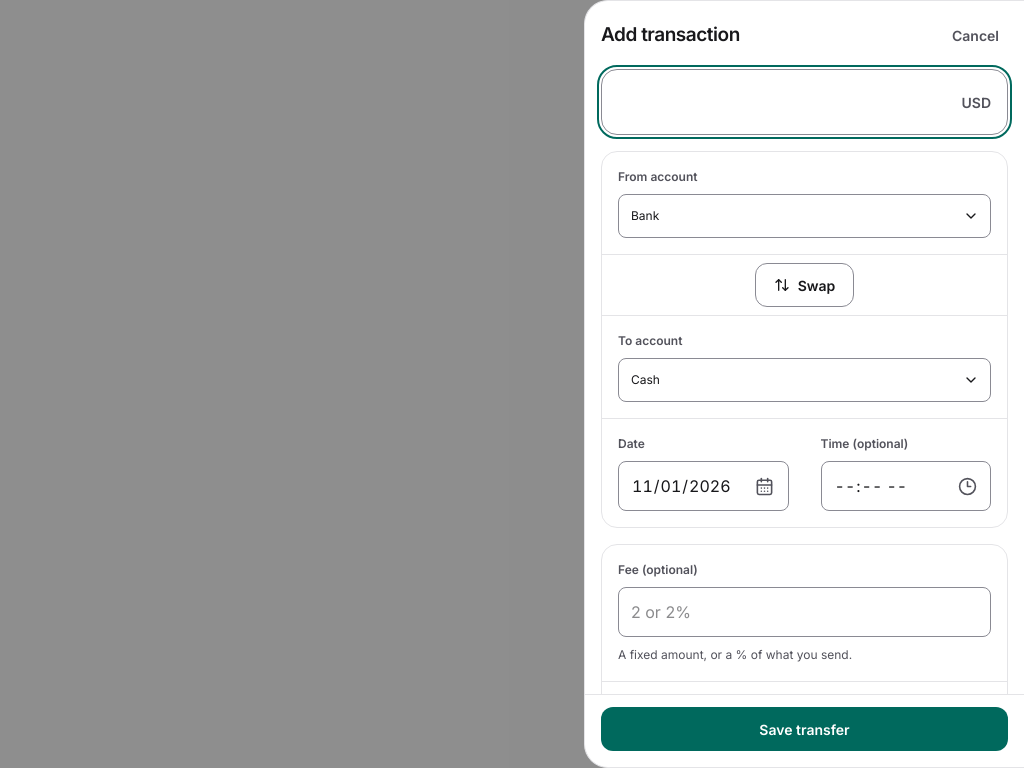
Test: opens More and asks for a category when a fee has none
Type "100" into the field named "Amount (USD)" at (784, 102), box [618, 70, 950, 134]
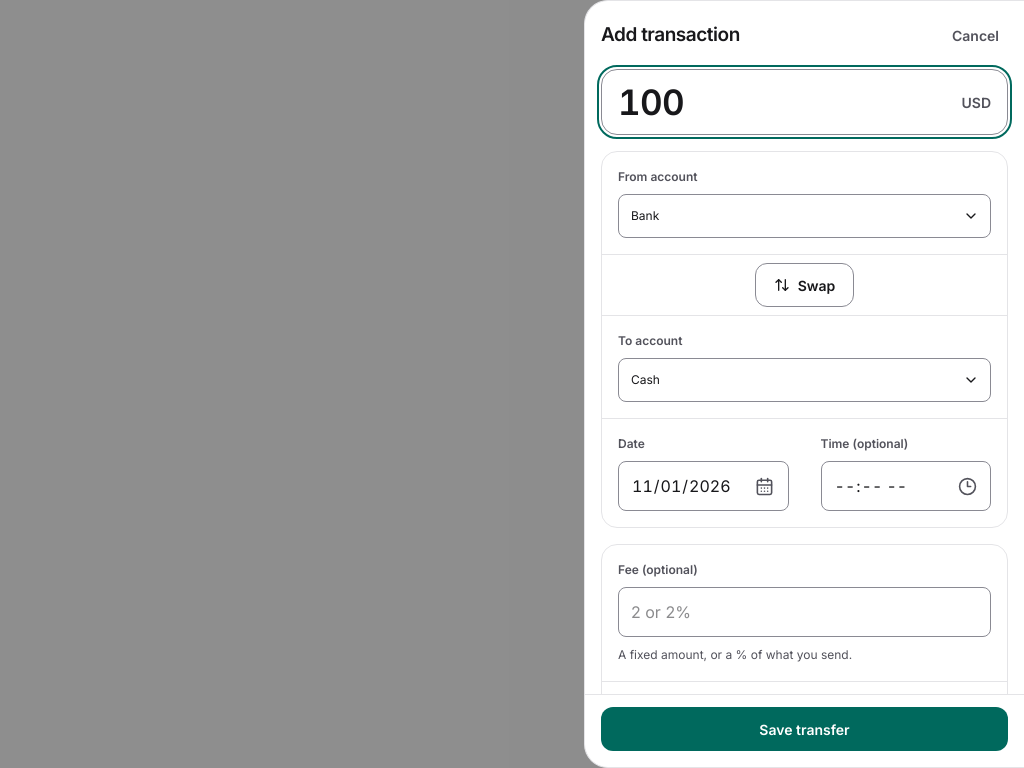
Type "2" into the field labelled "Fee (optional)" at (804, 612), box [618, 587, 991, 637]
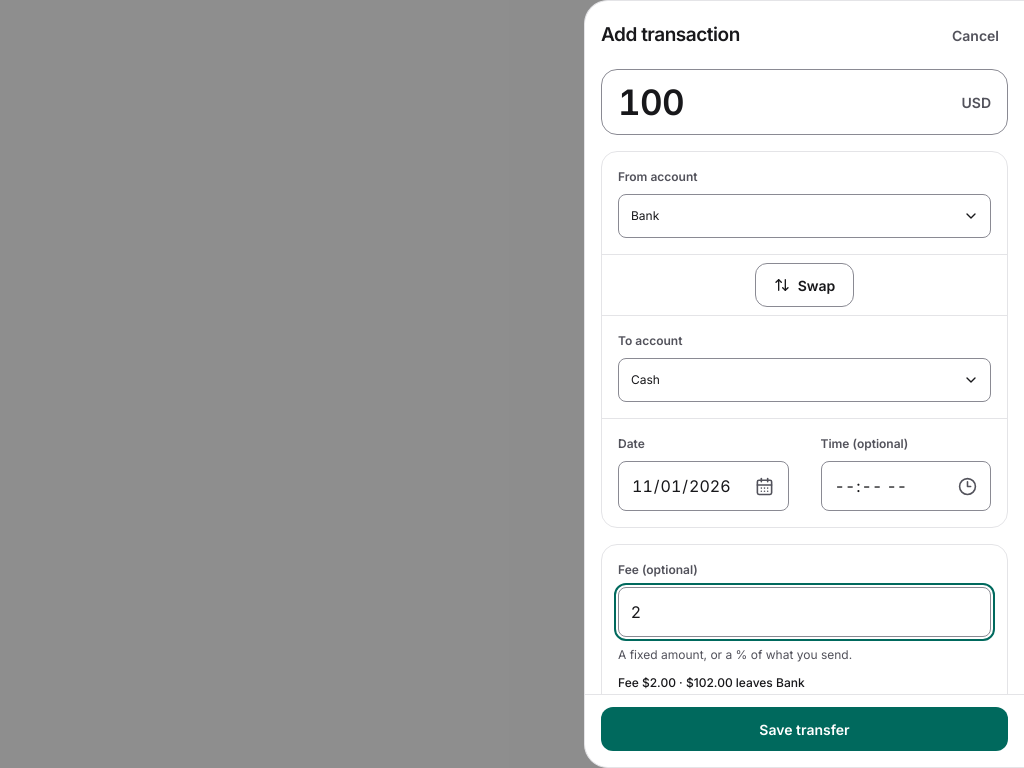
Click the button "Save transfer" at (804, 729), box [601, 707, 1008, 751]
(page scrolled)
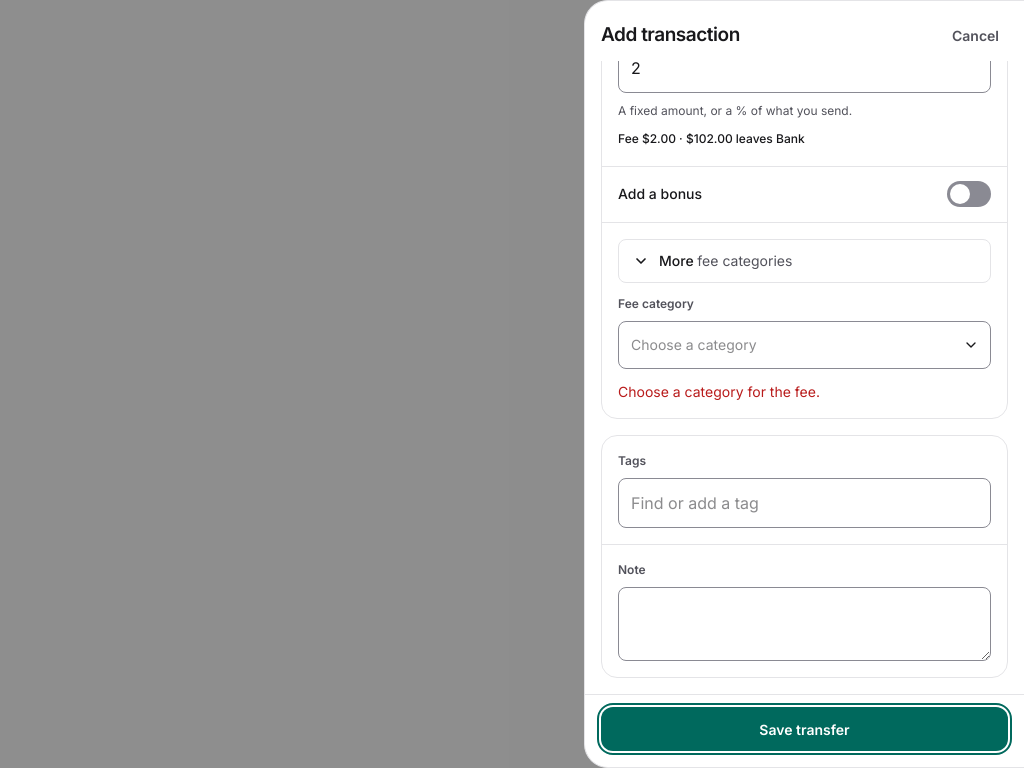
Expected: the text "Choose a category for the fee." is shown, [618, 383, 820, 400]
